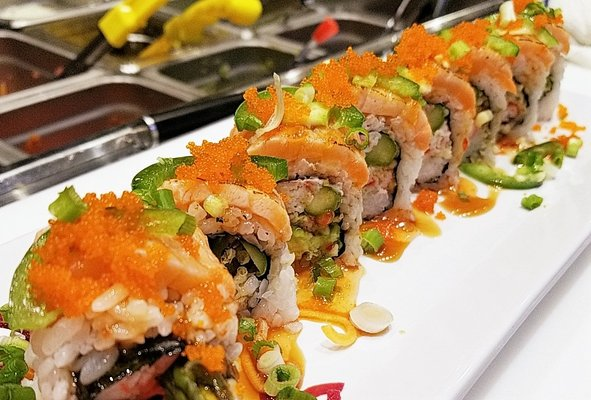curry: (0, 325, 37, 398)
sandwich: (2, 16, 403, 206), (0, 87, 297, 209)
soup: (0, 188, 243, 396)
